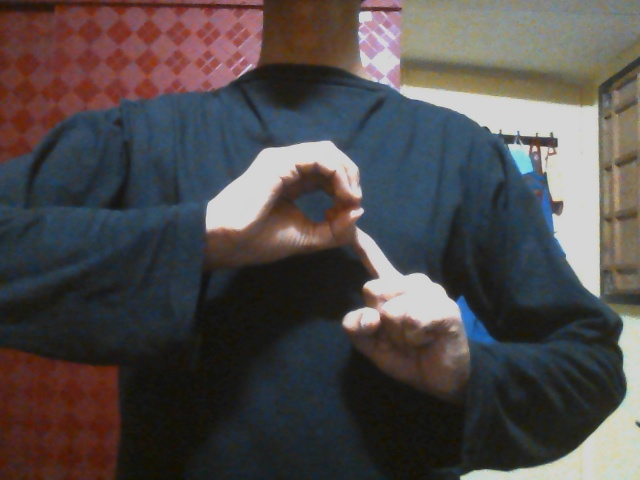Q: (216, 138, 461, 412)
